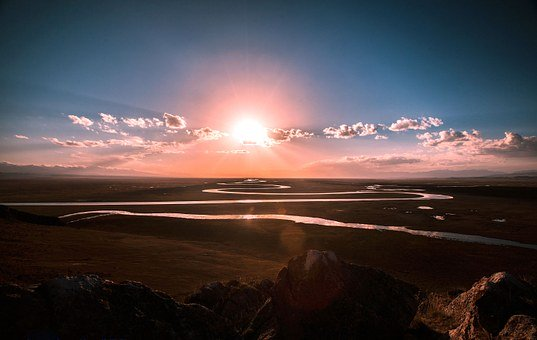field: (11, 180, 527, 332)
sky: (9, 1, 532, 172)
